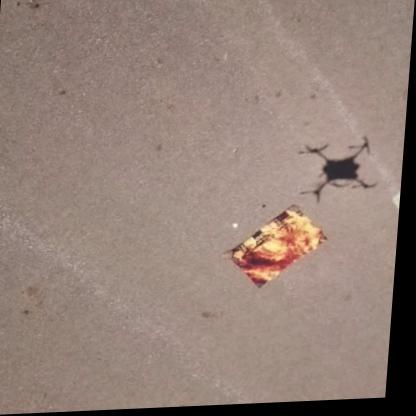fire-poster: (222, 206, 335, 293)
